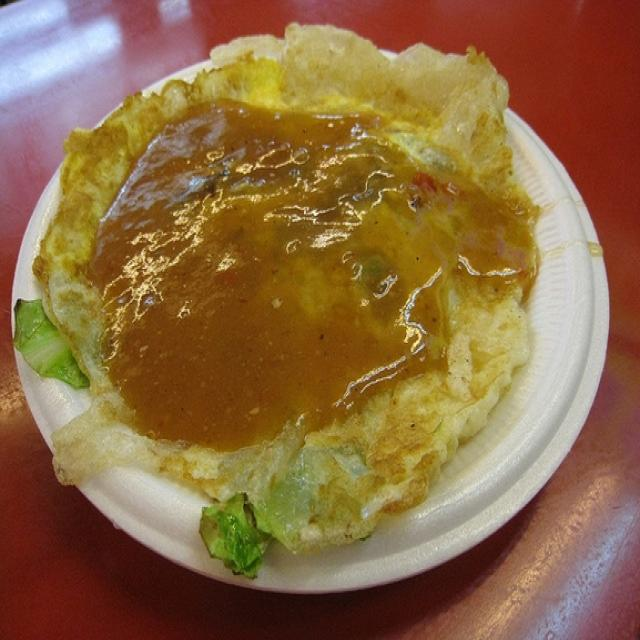熟制海鲜: (5, 15, 598, 581)
